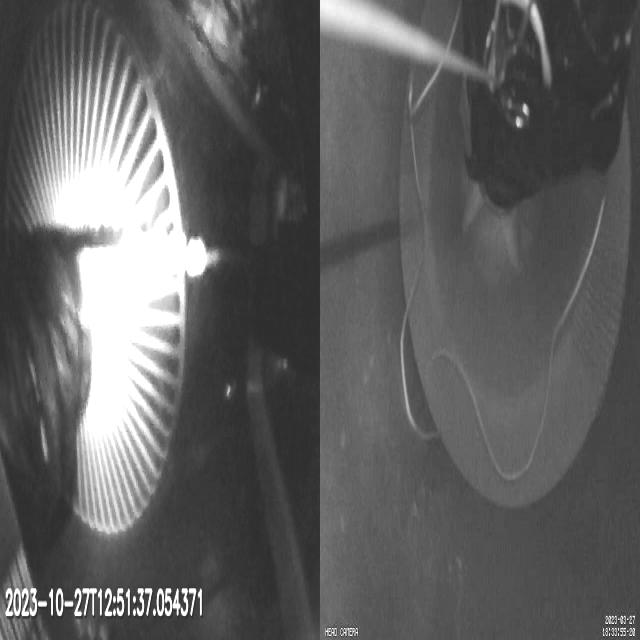white-dots: (150, 224, 208, 281)
